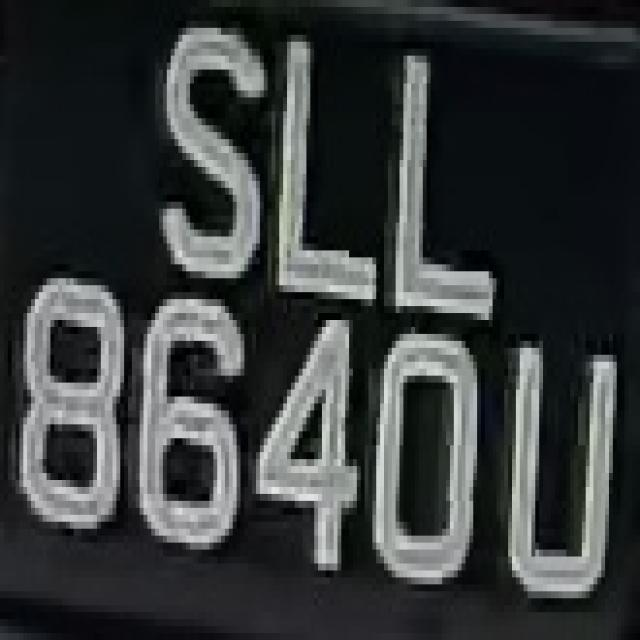0: (361, 306, 485, 612)
4: (244, 271, 357, 612)
6: (116, 278, 245, 550)
8: (16, 250, 120, 556)
L: (396, 42, 516, 355), (264, 21, 392, 313)
S: (144, 0, 264, 285)
U: (504, 320, 624, 612)
